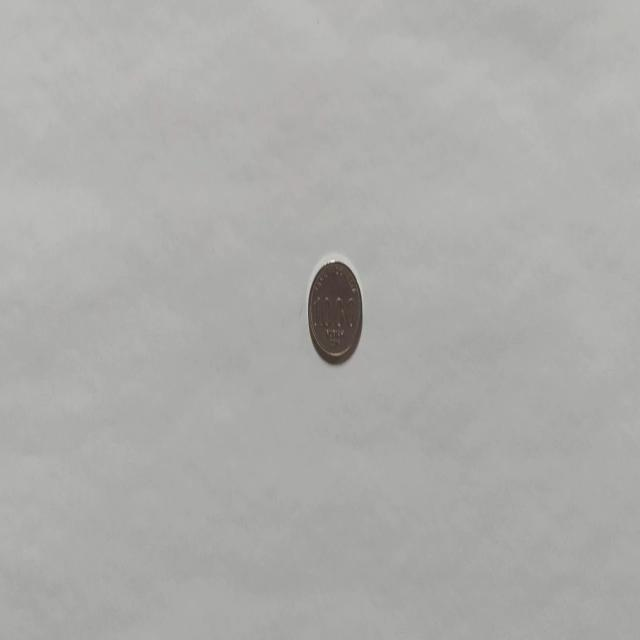seribu rupiah koin: (306, 255, 363, 365)
